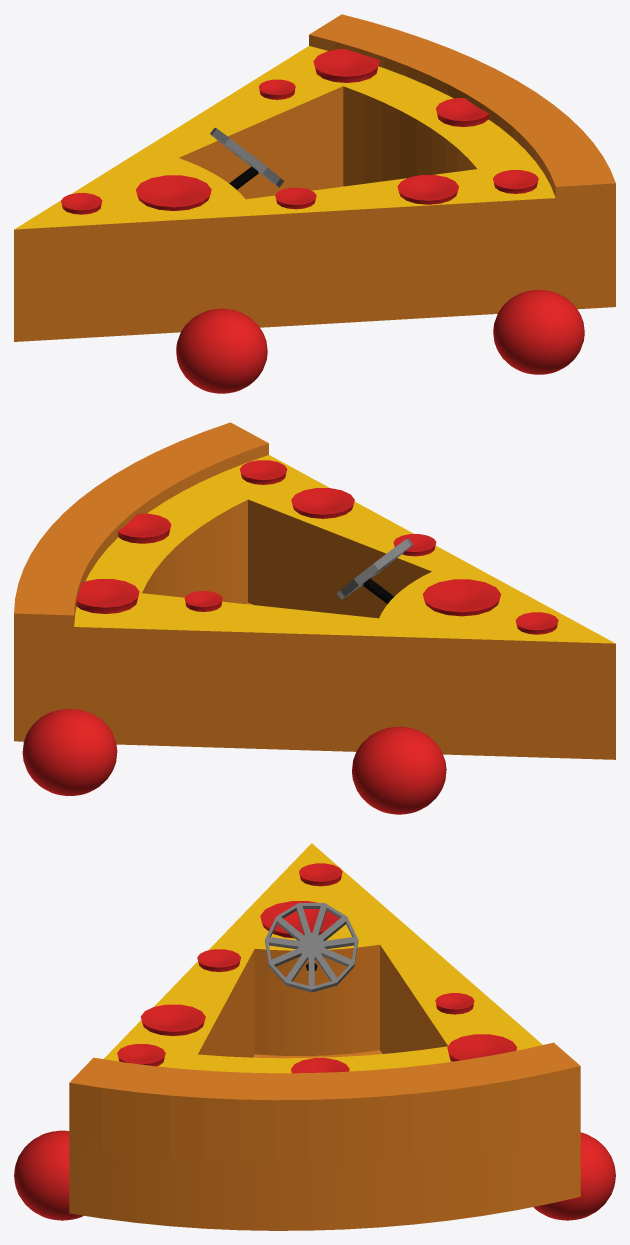
Rendered from Kart.fbx.
3 renders of one model, top to bottom at view 1: azimuth 30°, elevation 25°; view 2: azimuth 150°, elevation 25°; view 3: azimuth 270°, elevation 25°, orthographic. The views are drawn at different scales.
Visible parts, largest first — view 1: Cylinder001, Object001, Sphere003, Sphere001, Cylinder009, Cylinder012, Cylinder014, Cylinder016, Cylinder013, Cylinder005, Cylinder011, Cylinder010 (+1 smaller); view 2: Cylinder001, Object001, Sphere004, Sphere002, Cylinder009, Cylinder012, Cylinder014, Cylinder016, Cylinder013, Cylinder005, Cylinder010, Cylinder015 (+1 smaller); view 3: Cylinder001, Object001, Cylinder005, Sphere001, Sphere002, Cylinder014, Cylinder012, Cylinder009, Cylinder013, Cylinder010, Cylinder011, Cylinder016 (+1 smaller).
Boxes of the visible parts, x1,y1,x2,y2 form: Cylinder001: (14, 14, 615, 341); Object001: (14, 46, 555, 229); Sphere003: (176, 308, 267, 393); Sphere001: (493, 289, 584, 374); Cylinder009: (136, 175, 211, 210); Cylinder012: (313, 49, 379, 82); Cylinder014: (397, 175, 458, 204); Cylinder016: (435, 98, 489, 126); Cylinder013: (493, 170, 538, 193); Cylinder005: (210, 128, 284, 187); Cylinder011: (275, 187, 316, 209); Cylinder010: (61, 193, 102, 214); Cylinder001: (14, 422, 615, 759); Object001: (74, 455, 615, 643); Sphere004: (352, 726, 446, 814); Sphere002: (22, 709, 117, 795); Cylinder009: (422, 579, 500, 616); Cylinder012: (76, 579, 139, 613); Cylinder014: (291, 488, 354, 518); Cylinder016: (117, 513, 171, 543); Cylinder013: (240, 460, 287, 484); Cylinder005: (336, 538, 413, 600); Cylinder010: (515, 612, 558, 634); Cylinder015: (184, 591, 222, 611); Cylinder001: (69, 944, 580, 1230); Object001: (104, 843, 542, 1073); Cylinder005: (265, 903, 358, 992); Sphere001: (14, 1130, 83, 1220); Sphere002: (533, 1132, 615, 1220); Cylinder014: (140, 1004, 205, 1035); Cylinder012: (447, 1034, 516, 1061); Cylinder009: (260, 901, 339, 938); Cylinder013: (117, 1044, 165, 1066); Cylinder010: (299, 863, 342, 886); Cylinder011: (197, 949, 240, 971); Cylinder016: (291, 1058, 349, 1073).
Size of the model in its own units: 150 by 54.91 by 142.
